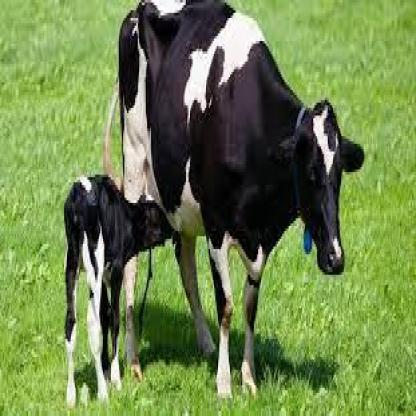cow: (104, 0, 365, 395), (64, 173, 174, 407)
